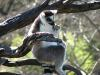cat: (27, 8, 67, 74)
